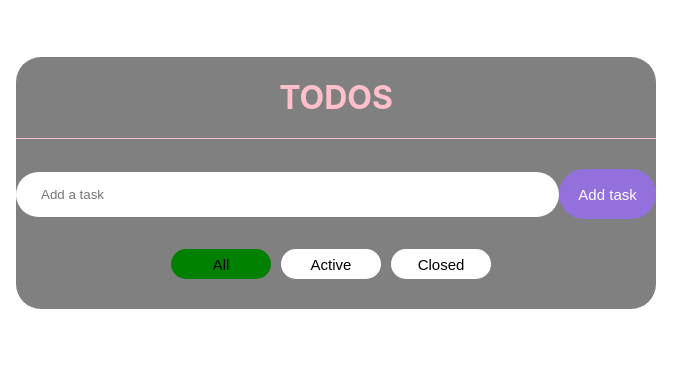
Scenario: add a new task
Type "walk with dog" into the field with test id "input" at (288, 194), box [16,172,559,217]
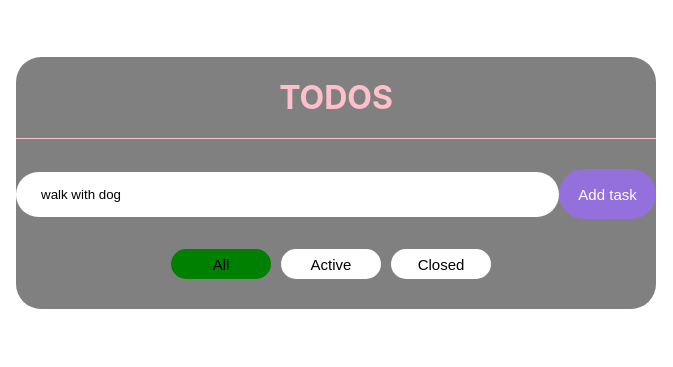
Click the button with test id "add todo button" at (608, 194), box [559,169,656,219]
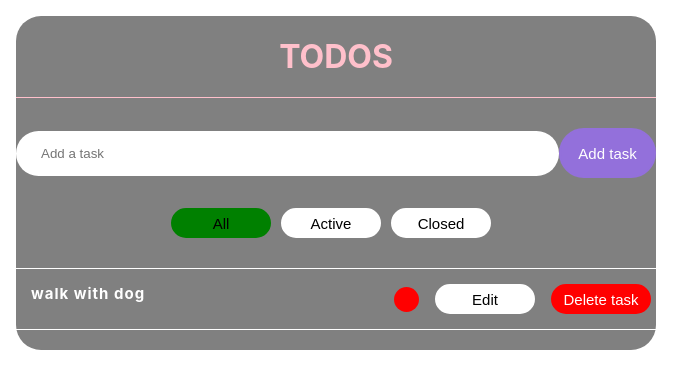
Expected: the text "walk with dog" is shown, [31,284,145,314]
Expected: the field with test id "input" is empty, [16,131,559,176]
